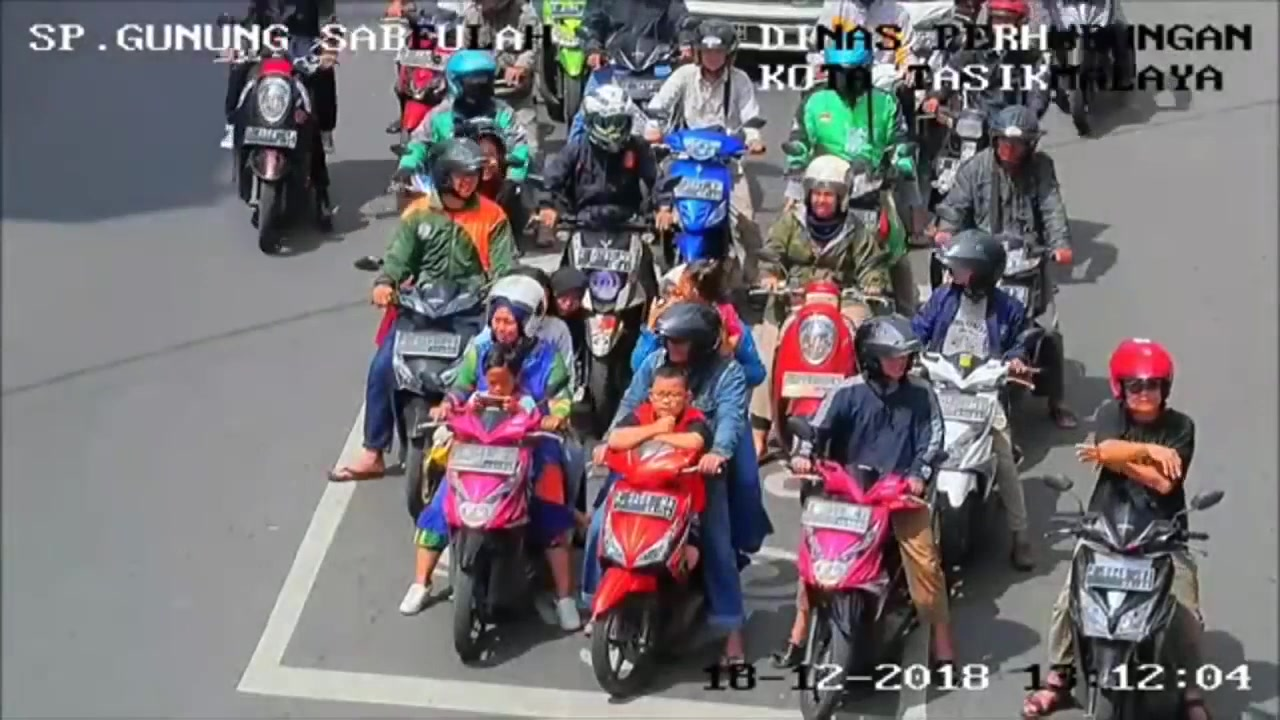person with helmet: (1102, 332, 1182, 423), (472, 272, 552, 358), (858, 302, 926, 401)
person with motorcycle: (433, 275, 556, 676), (816, 313, 935, 652), (1082, 336, 1198, 659)
